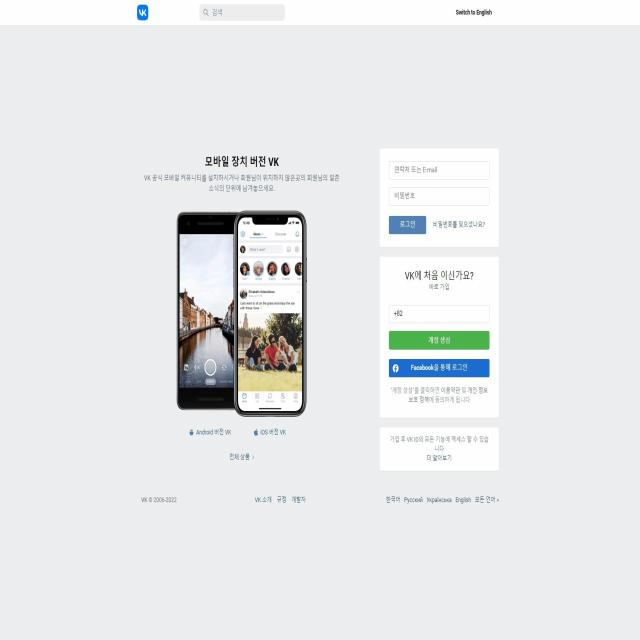button: (389, 331, 489, 350), (390, 359, 490, 378), (389, 216, 426, 233)
input: (389, 305, 490, 324), (389, 161, 489, 179), (389, 188, 489, 205)
